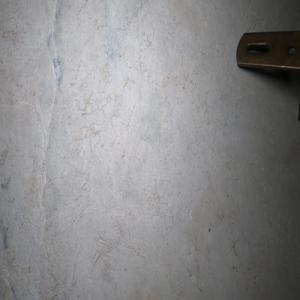MetalPart: (235, 28, 300, 121)
